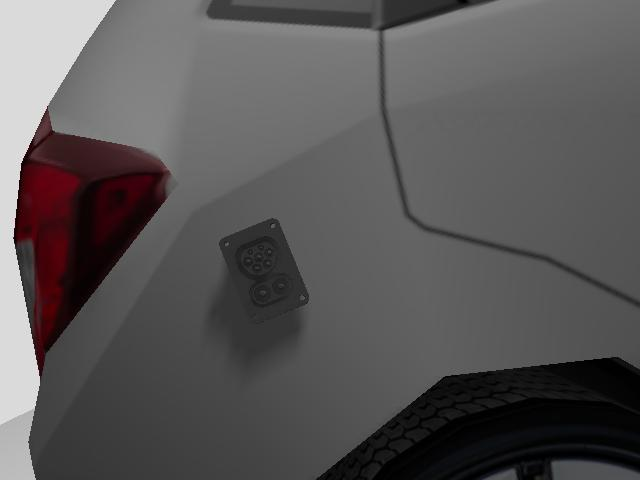EV-socket: (216, 215, 313, 326)
